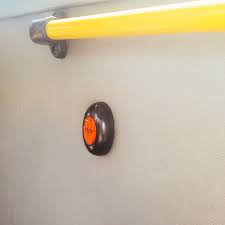bell: (81, 99, 116, 159)
